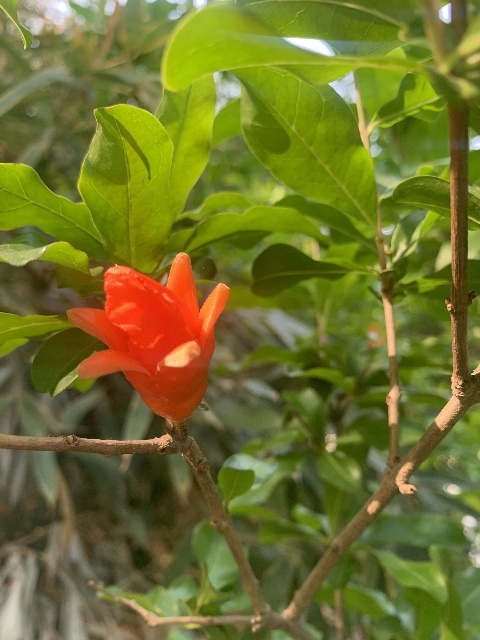flower: (68, 252, 230, 423)
